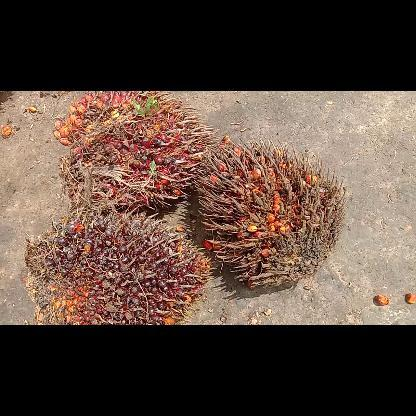Kurang masak: (23, 214, 209, 324)
TBS masak: (53, 91, 213, 215)
Terlalu masak: (196, 138, 342, 288)
